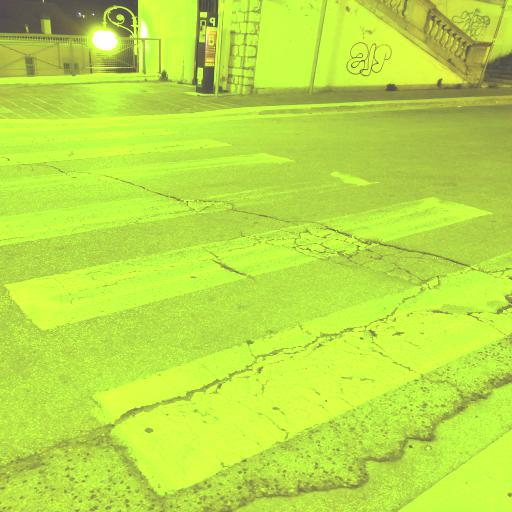crosswalk: (4, 167, 499, 337)
